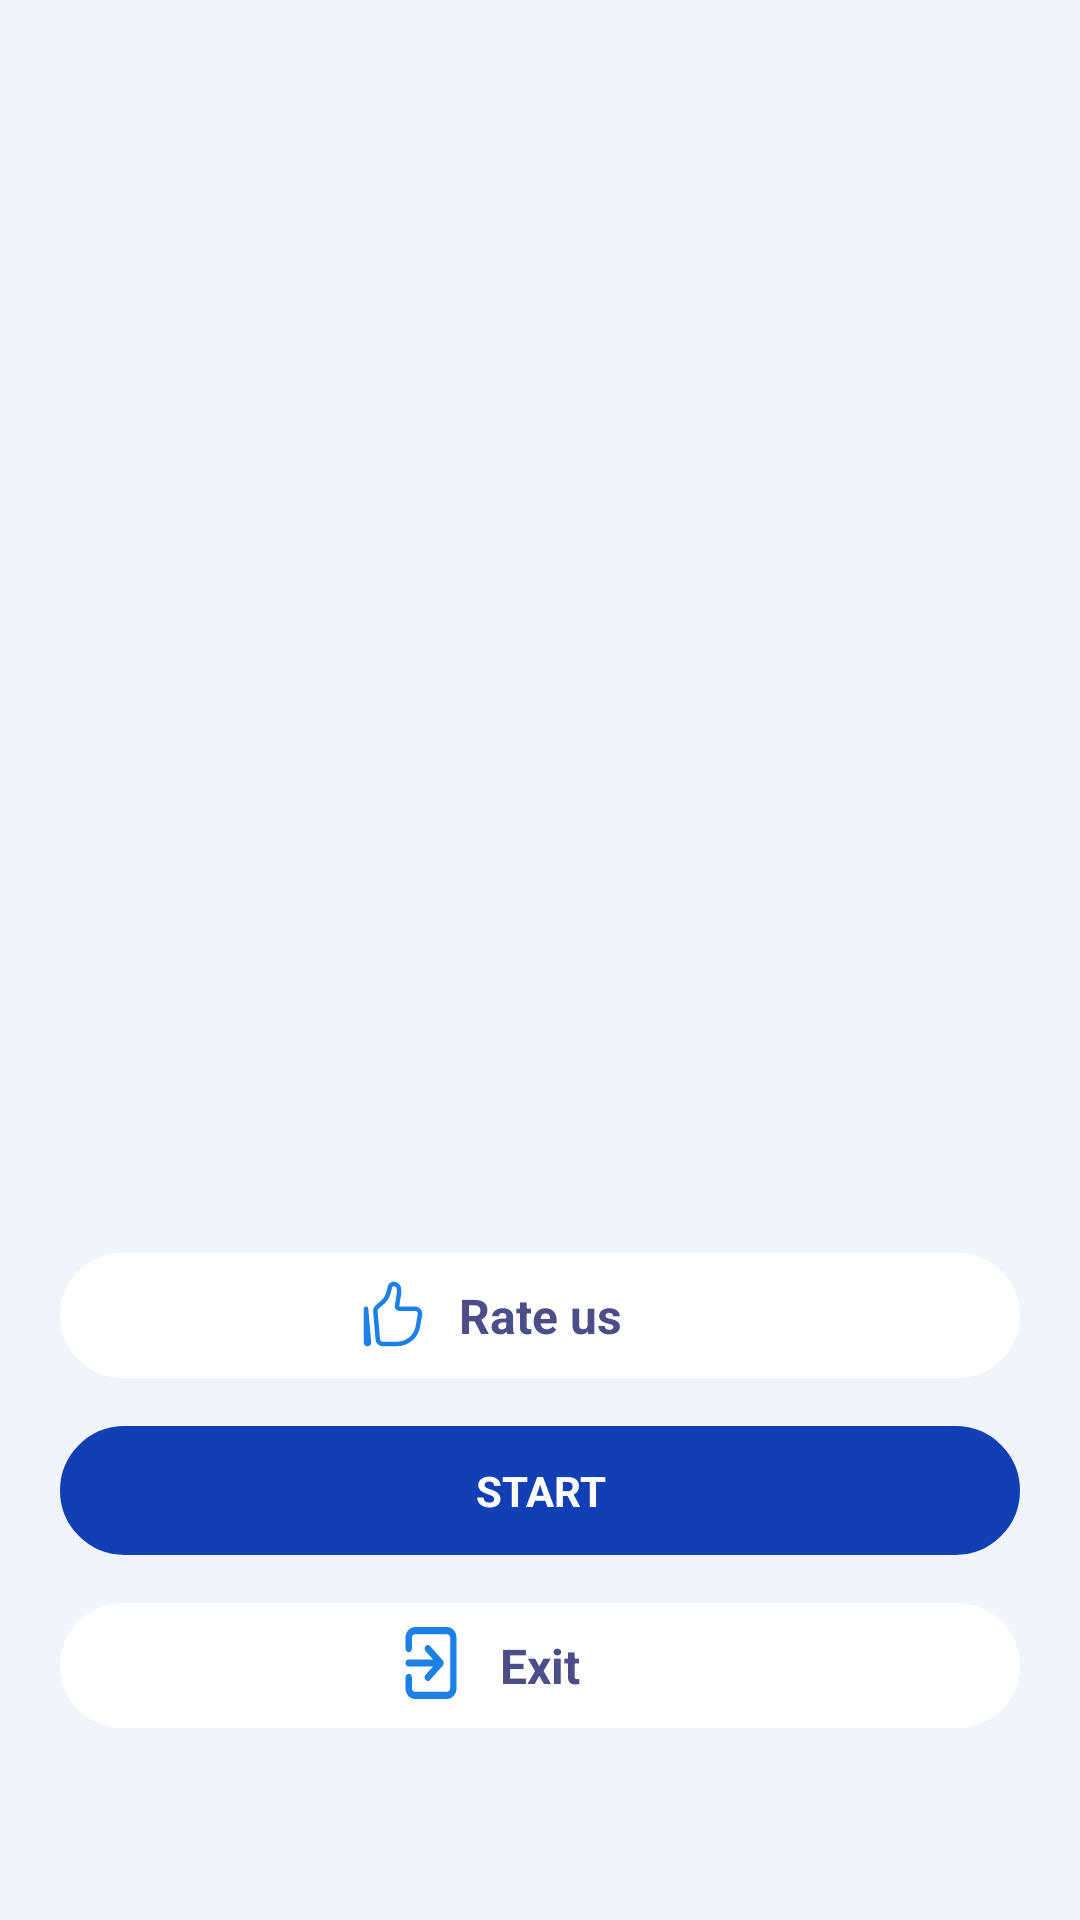

Icons on this 1080px x 1920px Android screen, each with the point to tap as (x=x, y=y):
like: (x=393, y=1314)
